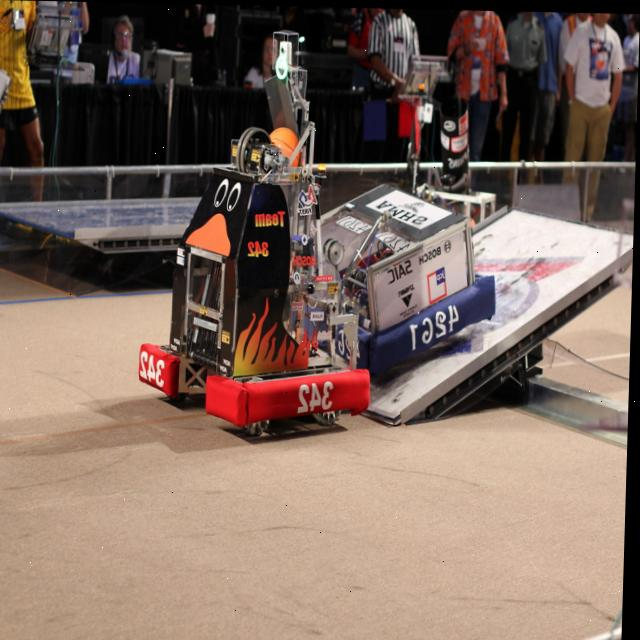robot: (137, 24, 382, 445), (293, 77, 501, 365)
